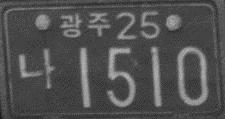0: (175, 45, 209, 108)
1: (76, 45, 93, 109), (148, 44, 165, 107)
2: (115, 10, 136, 41)
5: (105, 45, 137, 107), (138, 10, 160, 40)
광주_O: (59, 11, 111, 39)
나: (17, 47, 56, 89)
